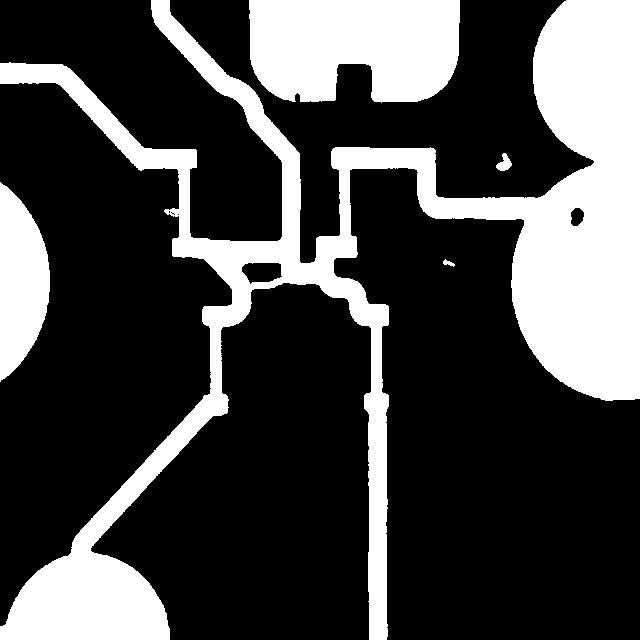copper: (561, 198, 593, 235)
mousebite: (154, 198, 189, 226)
open: (239, 267, 294, 299)
pin-hole: (486, 143, 521, 180), (433, 249, 464, 276)
spur: (285, 83, 309, 116)
